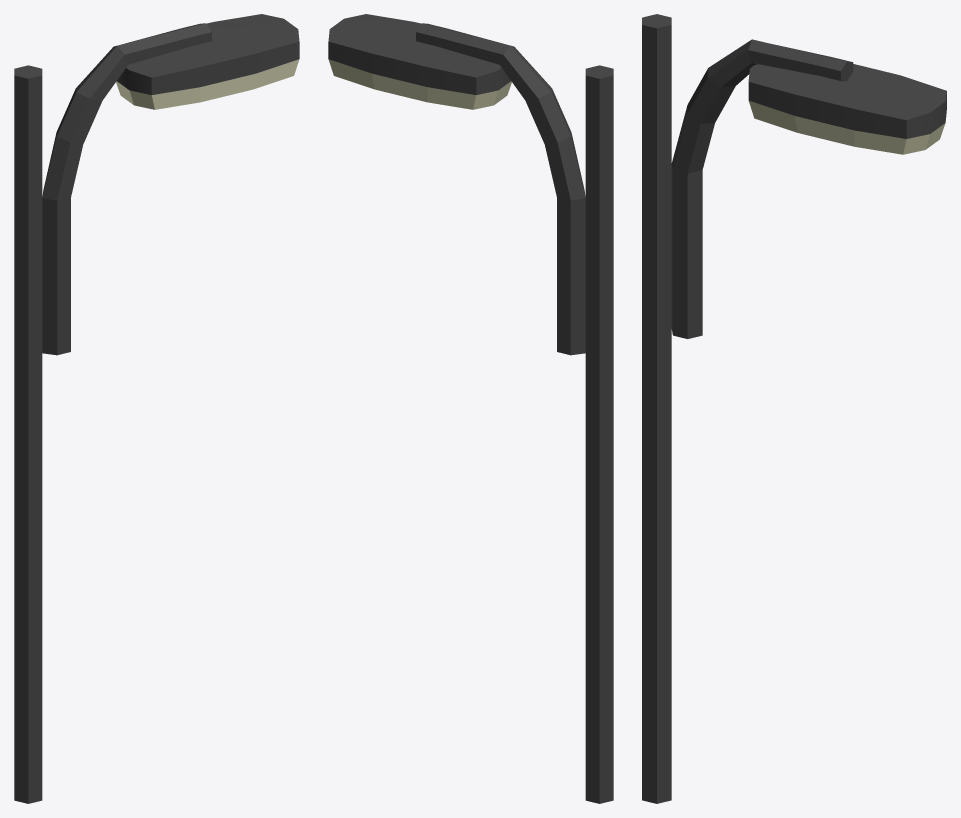
The model's file is Poste.fbx.
3 renders of one model, left to right at view 1: azimuth 30°, elevation 25°; view 2: azimuth 150°, elevation 25°; view 3: azimuth 330°, elevation 25°, orthographic. The views are drawn at different scales.
Parts seen in each view (by area): view 1: Poste; view 2: Poste; view 3: Poste.
Boxes of the visible parts, <box> form: Poste: <box>14,14,299,803</box>; Poste: <box>328,14,613,803</box>; Poste: <box>642,14,946,803</box>.
Size of the model in its own units: 4.55 by 11.48 by 1.23.
